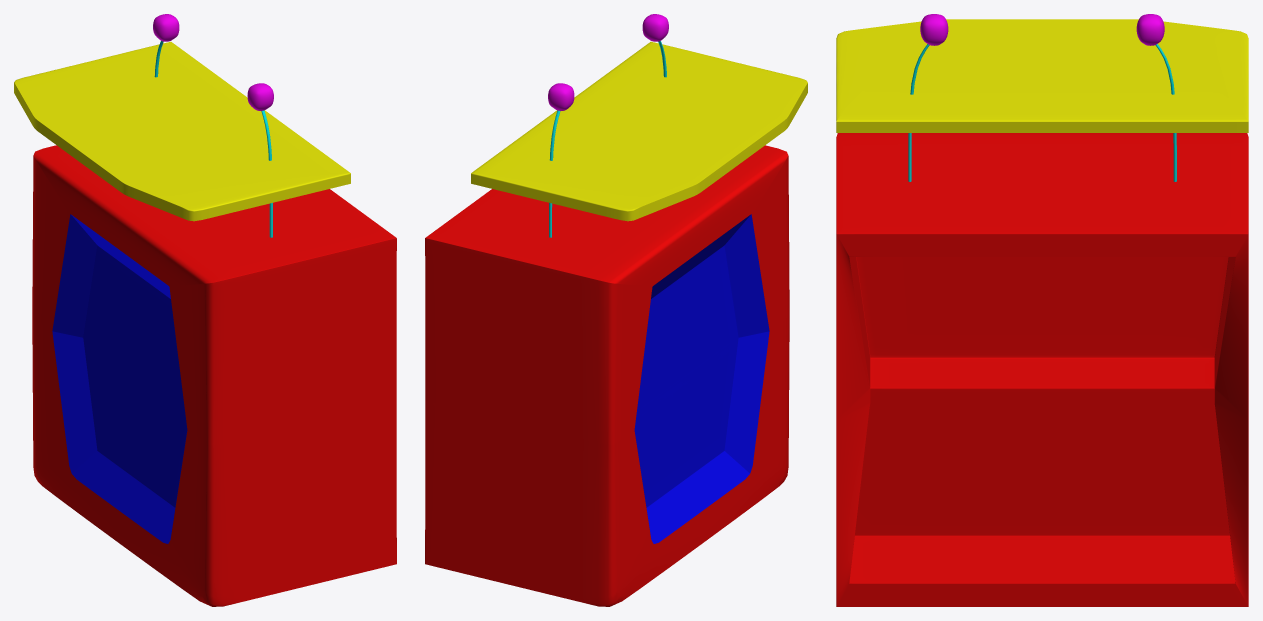
File: Kundentheke_2_gerade_high.fbx
3 views of the same model, side by side, from view 1: azimuth 30°, elevation 25°; view 2: azimuth 150°, elevation 25°; view 3: azimuth 270°, elevation 25° (orthographic). The views are drawn at different scales.
Visible parts, largest first — view 1: Kundentheke_2_gerade_high; view 2: Kundentheke_2_gerade_high; view 3: Kundentheke_2_gerade_high.
Boxes of the visible parts, x1,y1,x2,y2 form: Kundentheke_2_gerade_high: [14, 14, 396, 606]; Kundentheke_2_gerade_high: [425, 14, 807, 606]; Kundentheke_2_gerade_high: [836, 14, 1248, 606].
Bounding box in the file's own units: 0.7291 × 1.44 × 1.
